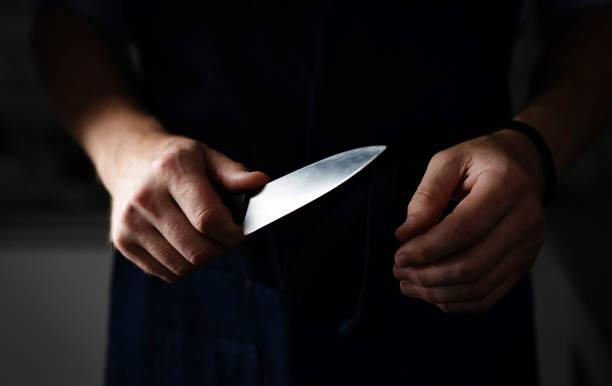Knife: (31, 0, 612, 386), (111, 137, 264, 280), (242, 144, 389, 236)
